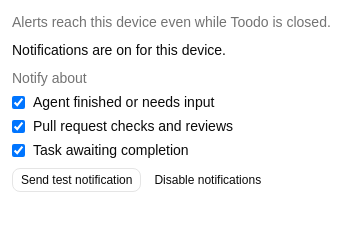
Test: NotificationsPanel › confirms a test notification the server sent
The width and height of the screenshot is (347, 235).
Click the button "Send test notification": x=77, y=180 [12,168,141,192]
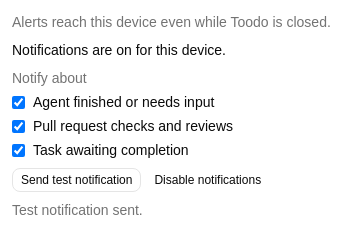
Check: the message reads "Test notification sent.", box [12,202,143,218]
